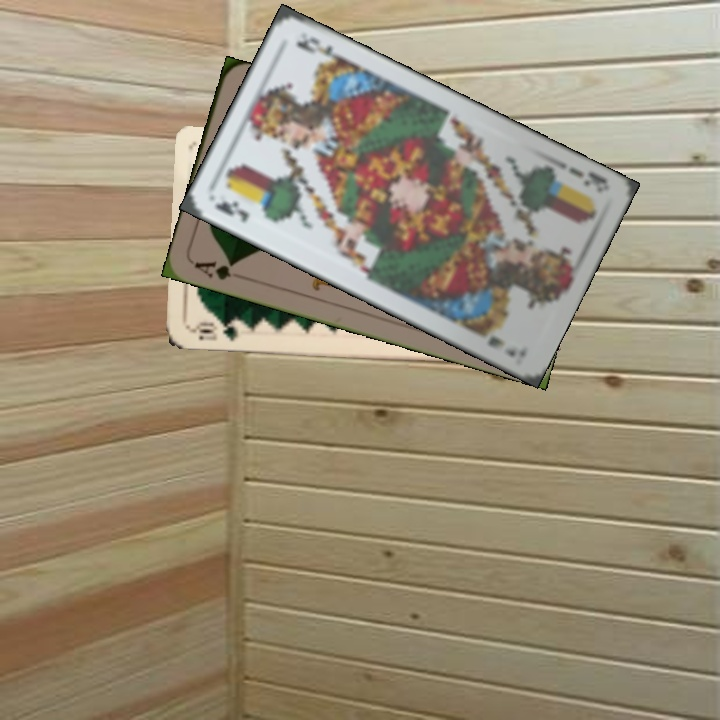EK: (565, 163, 610, 196), (211, 197, 252, 226)
G10: (188, 317, 240, 344)
GA: (190, 257, 240, 283)
